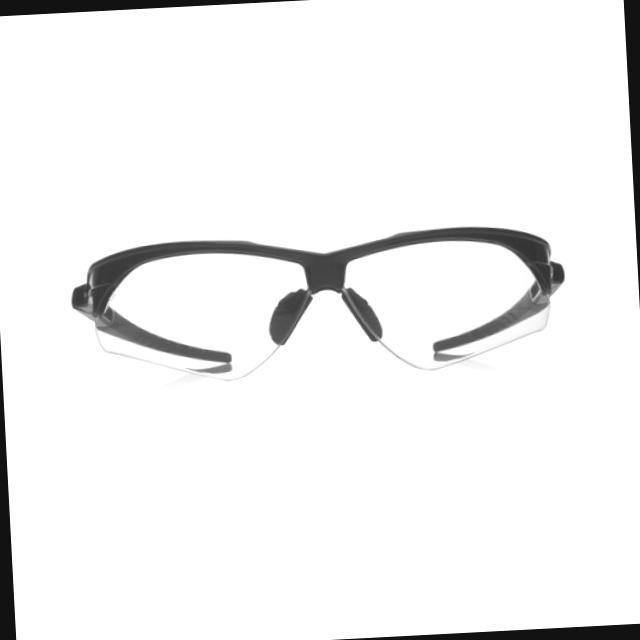goggles: (72, 218, 584, 396)
